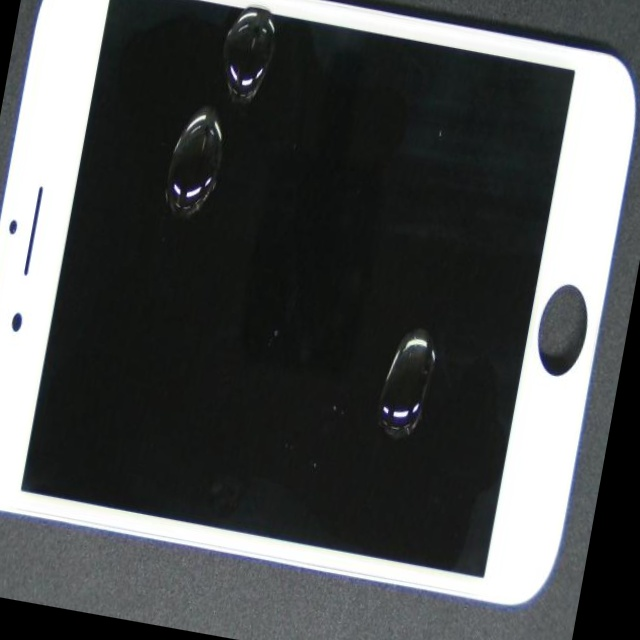oil: (186, 131, 640, 556), (116, 3, 340, 226), (120, 0, 353, 115)
